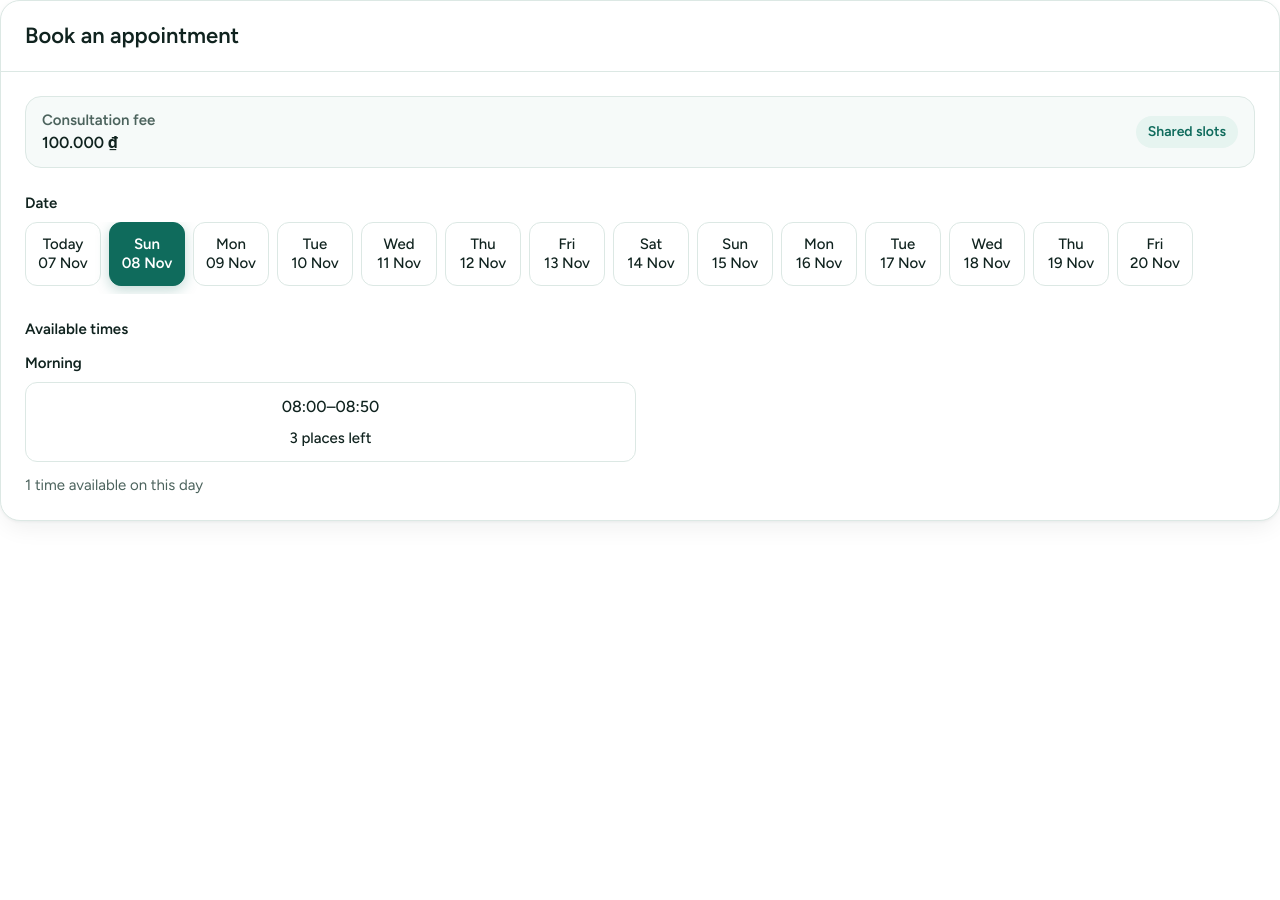
clears a stale selection and refreshes remaining places on conflict
The image size is (1280, 900).
What coordinates should you click on to do the following:
click the button "08:00–08:50 3 places left"
I would click on:
 (304, 406)
Its box is [25, 382, 636, 462].
(page scrolled)
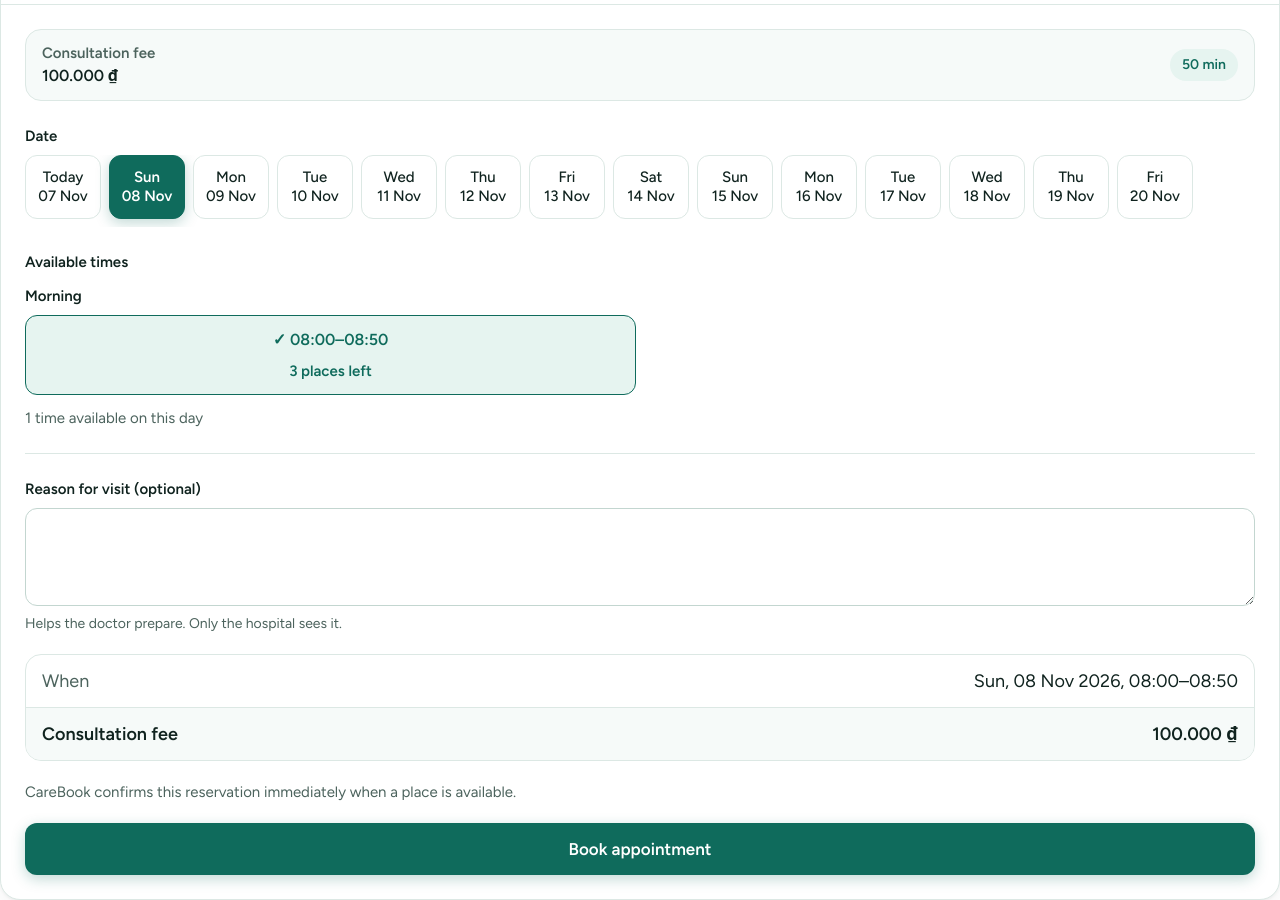
What coordinates should you click on to do the following:
click the button "Book appointment"
I would click on:
 (640, 849)
Its box is [25, 823, 1255, 875].
(page scrolled)
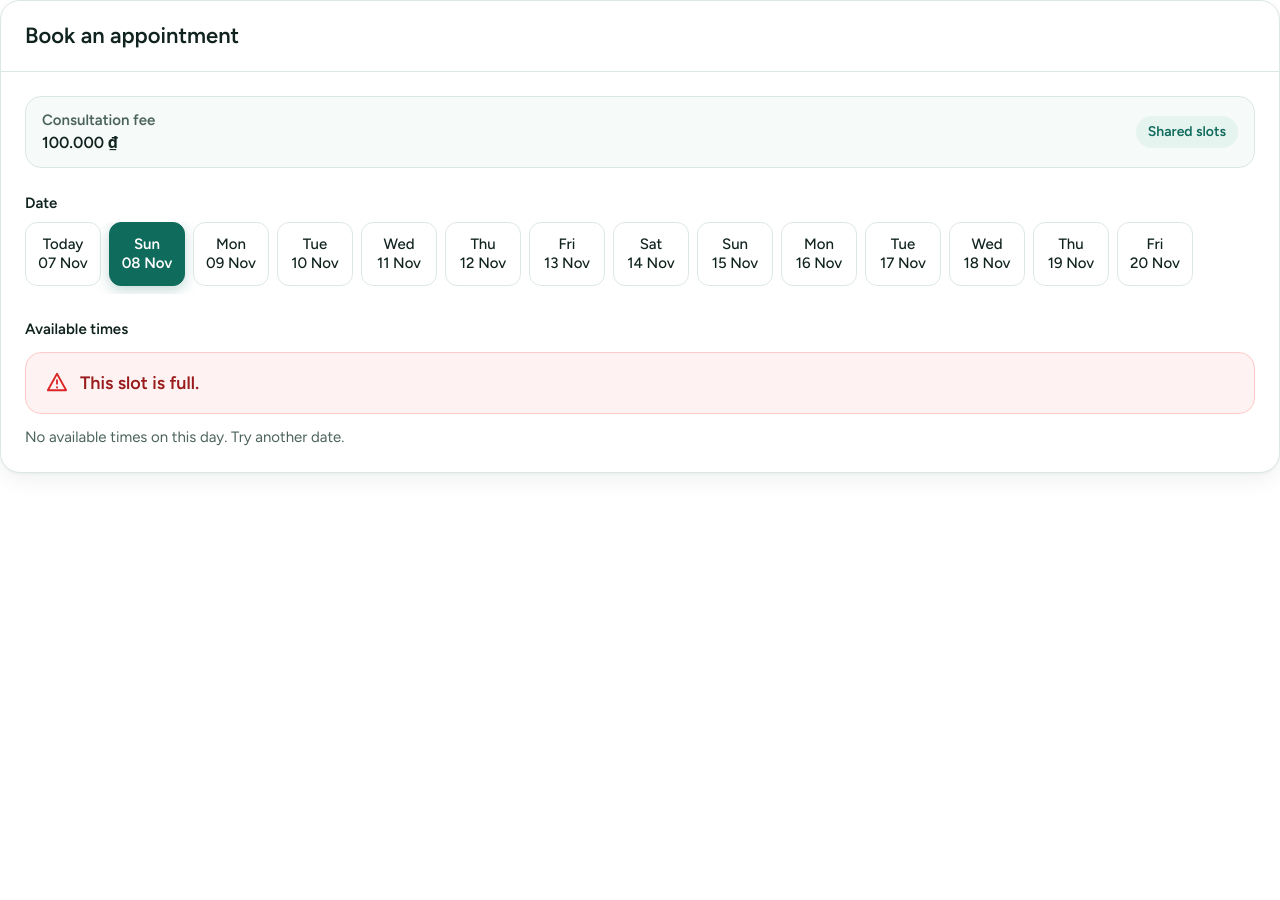
Check: the text "No available times on this day. Try another date." is shown, box [25, 428, 344, 446]
Check: the message reads "This slot is full.", box [80, 372, 199, 394]
Check: the button "Book appointment" is gone
